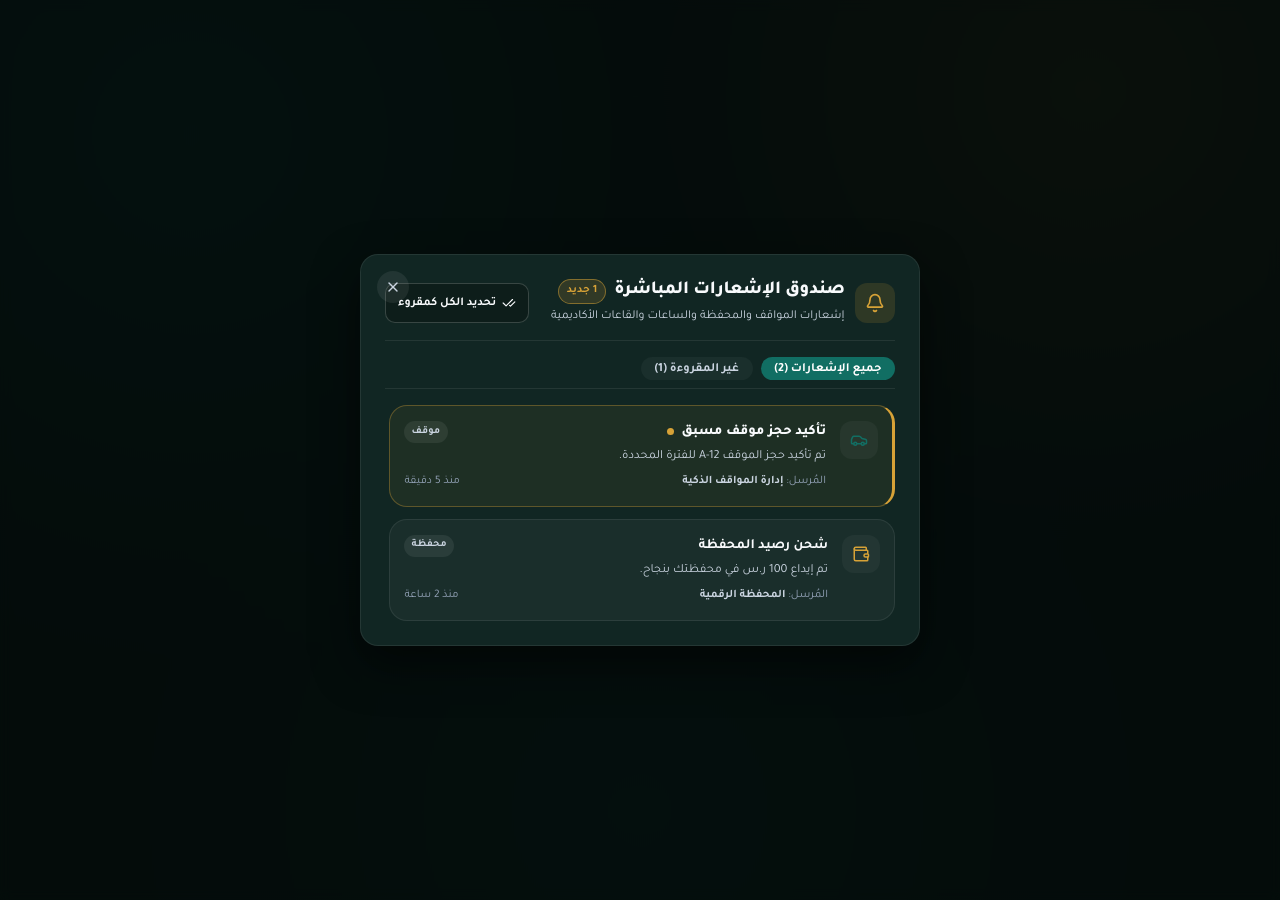
Test: NotificationsModal Component (P7-03) › filters notifications by Unread tab when clicked
Expected: the text "تأكيد حجز موقف مسبق" is shown, [682,421,826,443]
Expected: the text "شحن رصيد المحفظة" is shown, [698,534,828,557]
// Click Unread tab
Step 1. Click the button with test id "notifications-tab-unread" → (697, 368), box [641,357,753,380]
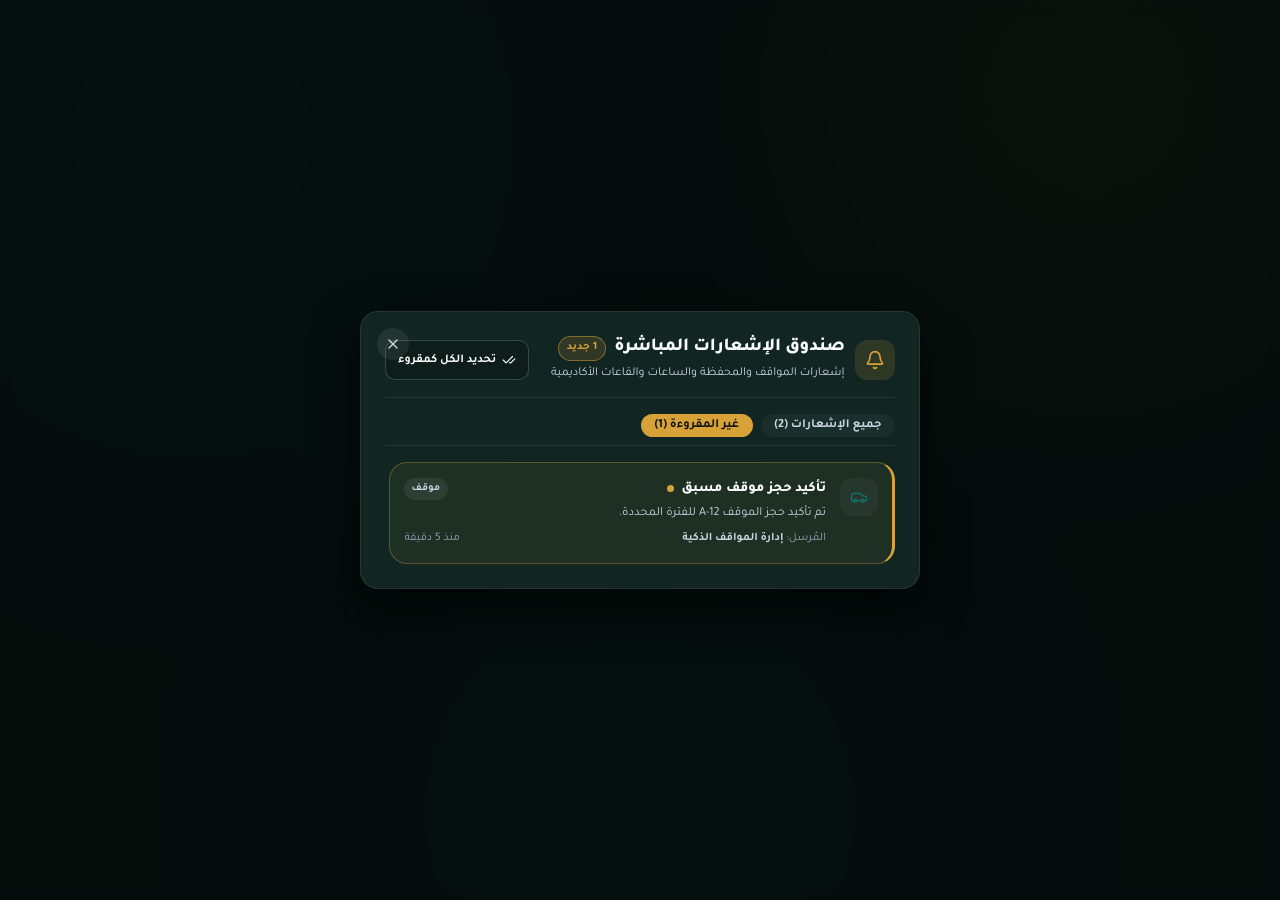
Expected: the text "تأكيد حجز موقف مسبق" is shown, [682,478,826,500]
Expected: the text "شحن رصيد المحفظة" is gone
// Switch back to All Alerts tab
Step 2. Click the button with test id "notifications-tab-all" → (828, 425), box [761,414,895,437]
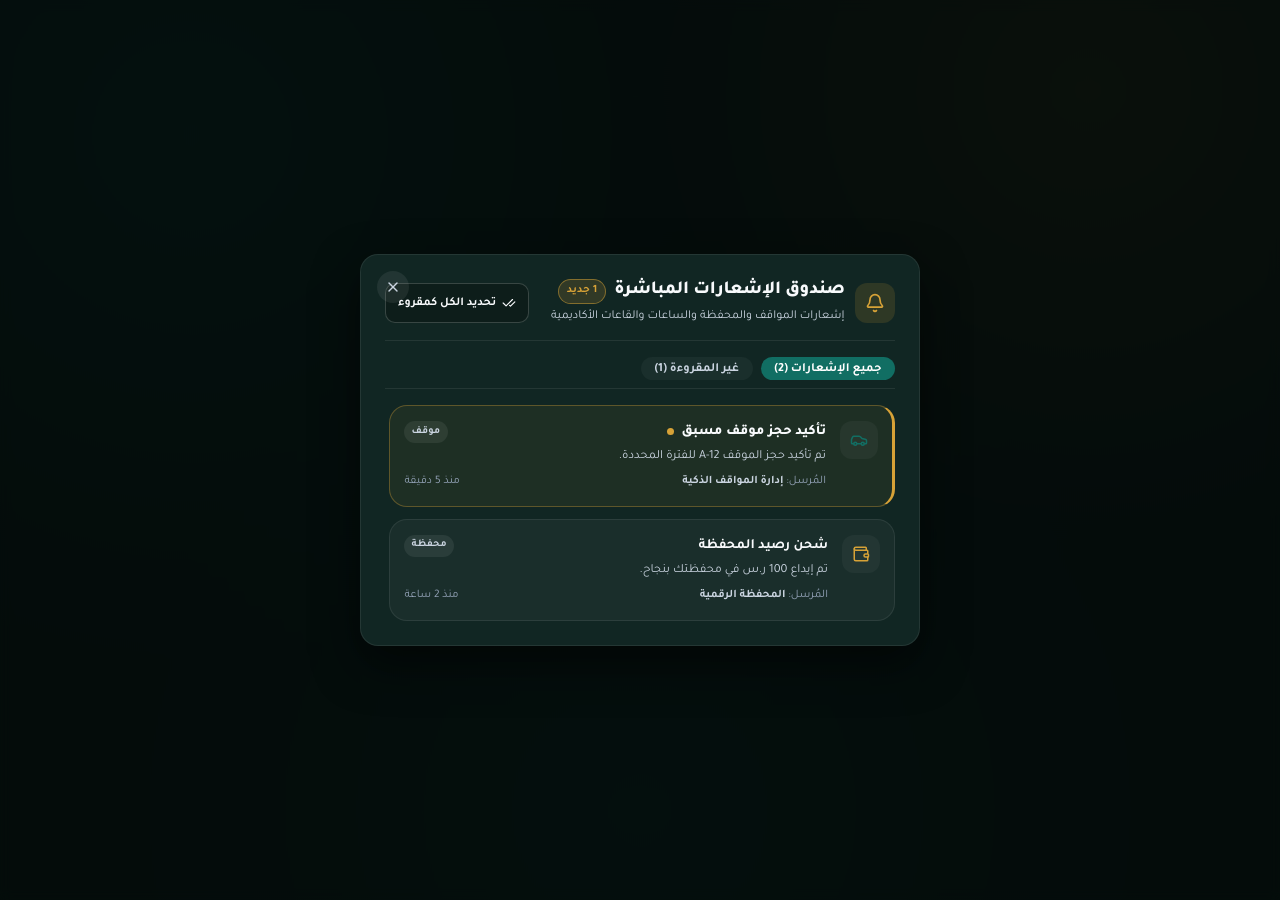
Expected: the text "تأكيد حجز موقف مسبق" is shown, [682,421,826,443]
Expected: the text "شحن رصيد المحفظة" is shown, [698,534,828,557]
